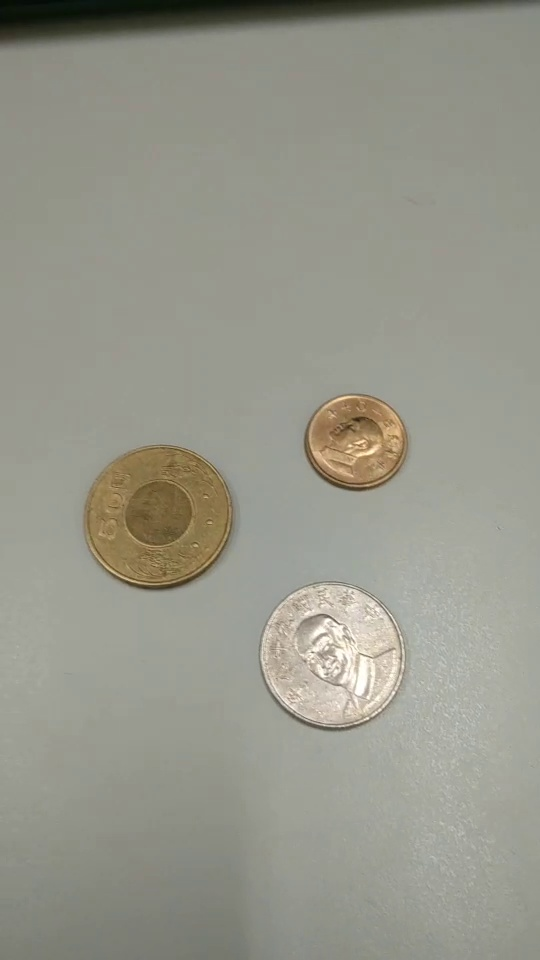NT$ 1: (304, 391, 409, 490)
NT$ 10: (260, 580, 407, 731)
NT$ 50: (84, 445, 237, 593)
